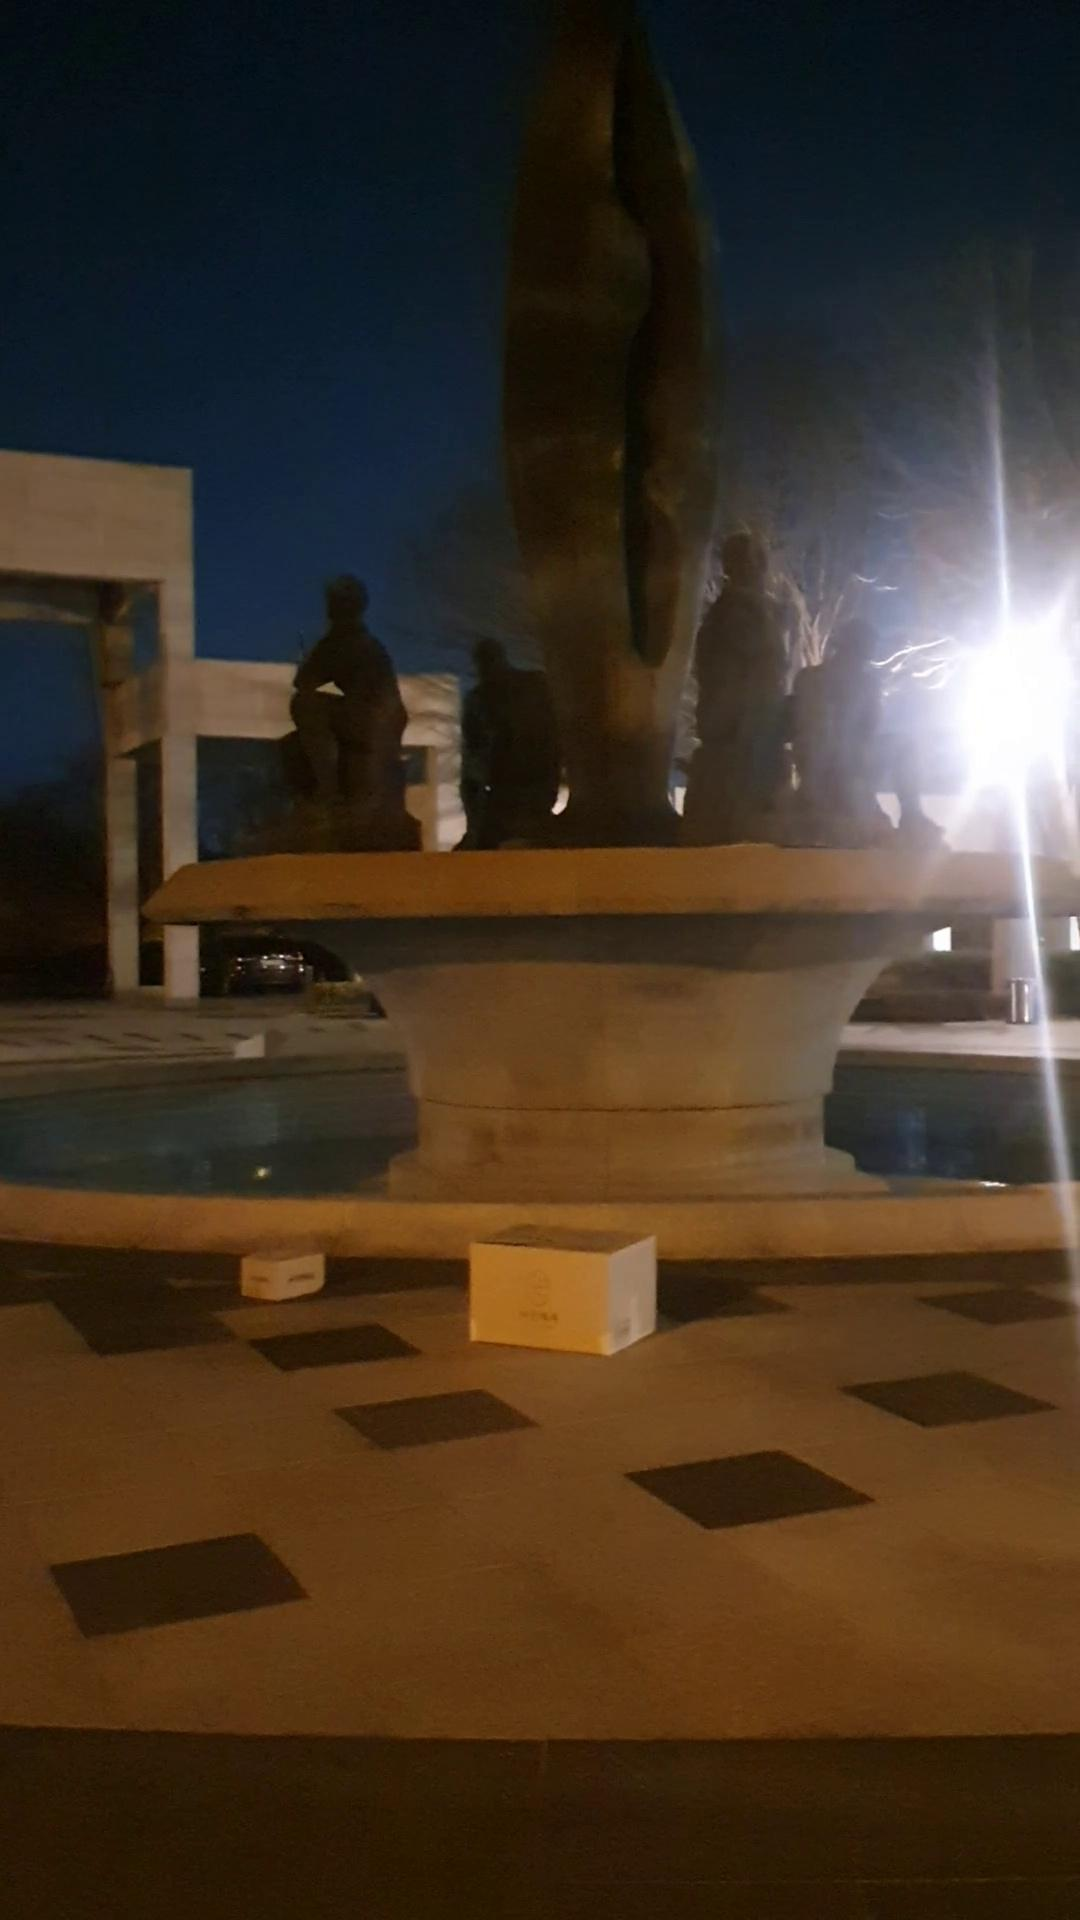Box: (438, 1222, 692, 1375), (218, 1228, 355, 1328)
